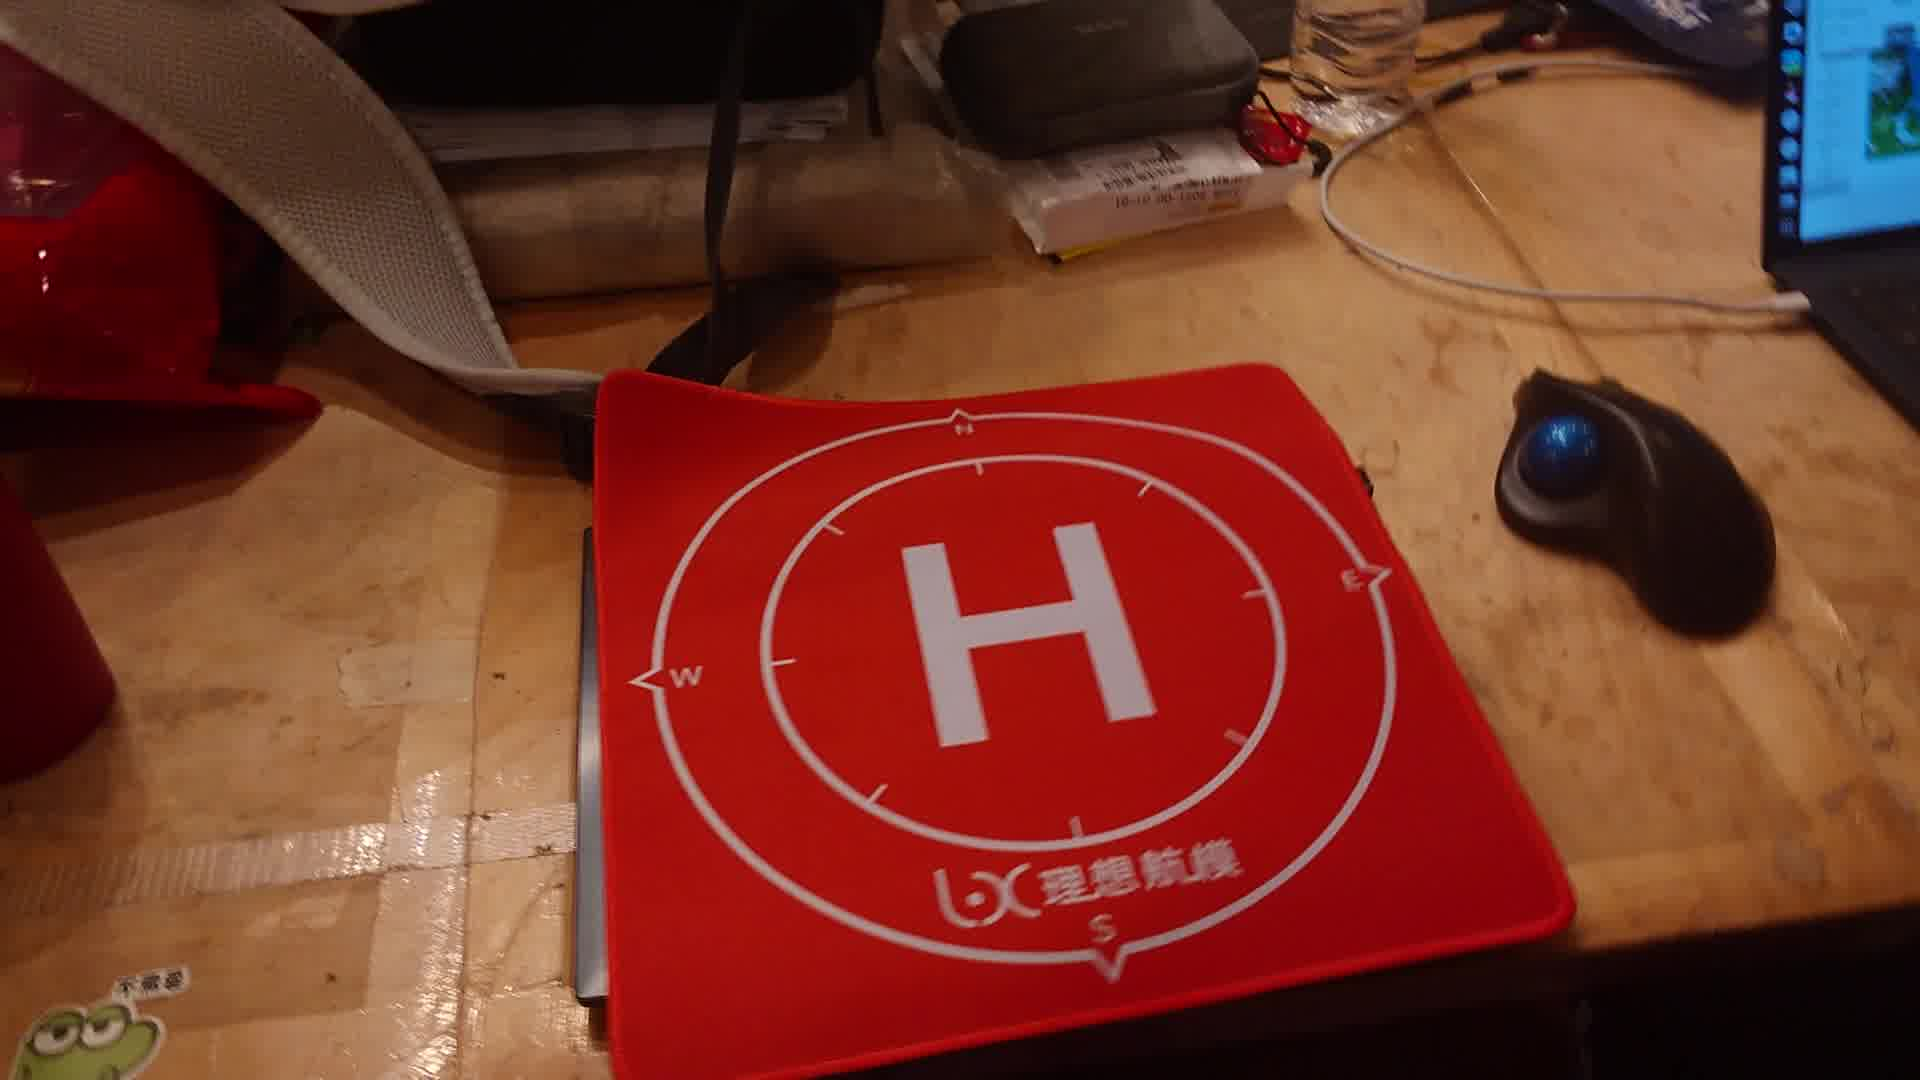H: (899, 520, 1159, 748)
